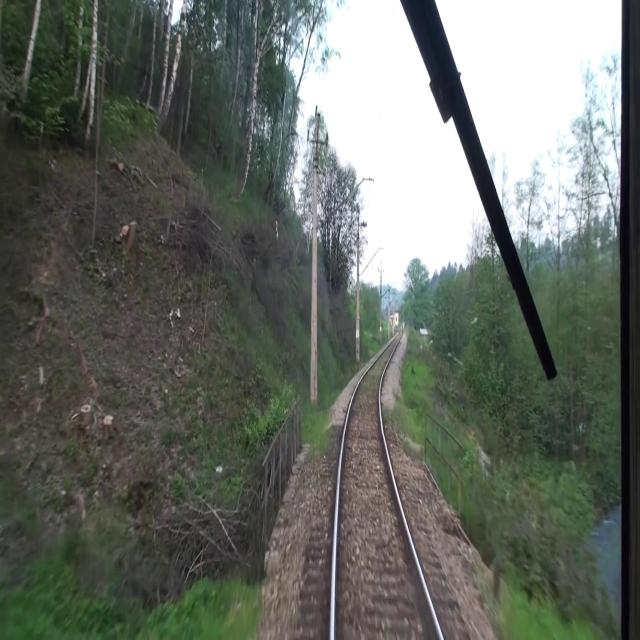rail-track: (335, 333, 438, 639)
